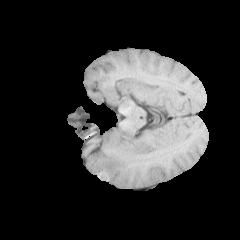glioma: (88, 141, 137, 181)
